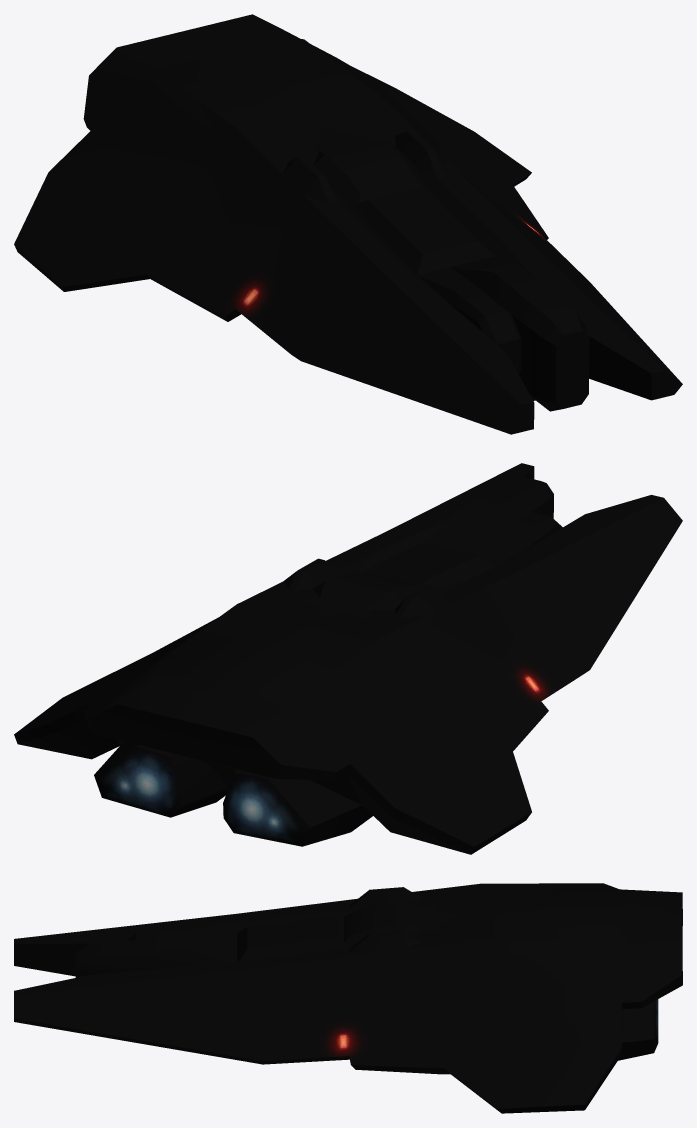
Rendered from hgn_sf_intc_01_t2.glb.
3 renders of one model, top to bottom at view 1: azimuth 30°, elevation 25°; view 2: azimuth 150°, elevation 25°; view 3: azimuth 270°, elevation 25°, orthographic. The views are drawn at different scales.
Visible parts, largest first — view 1: hgn_sf_intc_01_t1_LOD0; view 2: hgn_sf_intc_01_t1_LOD0; view 3: hgn_sf_intc_01_t1_LOD0.
Boxes of the visible parts, box(x1,y1,x2,y2) form: hgn_sf_intc_01_t1_LOD0: box(14, 14, 682, 434); hgn_sf_intc_01_t1_LOD0: box(14, 463, 682, 854); hgn_sf_intc_01_t1_LOD0: box(14, 883, 682, 1113).
Size of what is drawn, in the model's own units: 0.268 by 0.092 by 0.4038.
1 material, 1 textured.
